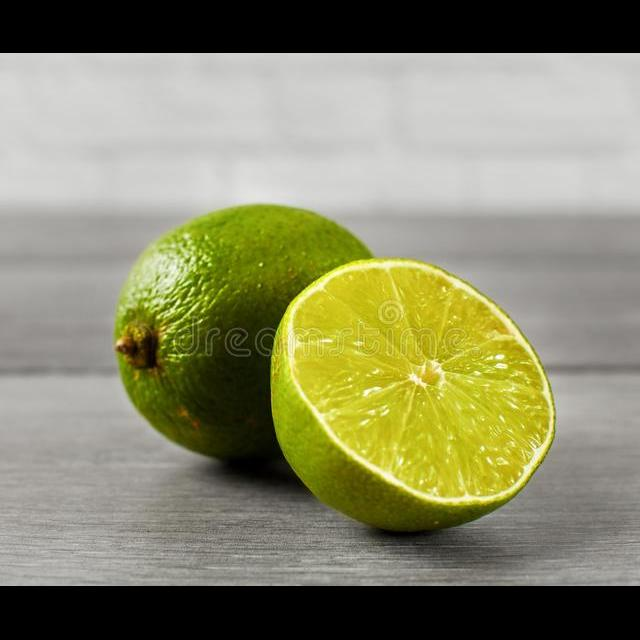lime: (108, 190, 404, 478)
